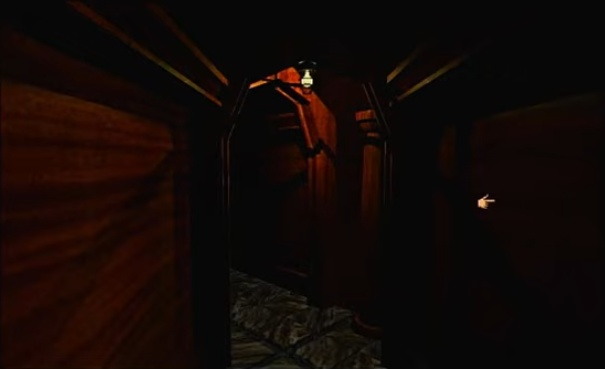Pointer: (476, 190, 496, 211)
